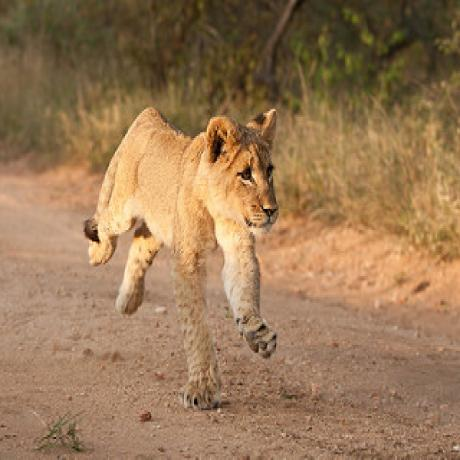Lion: (76, 98, 283, 405)
